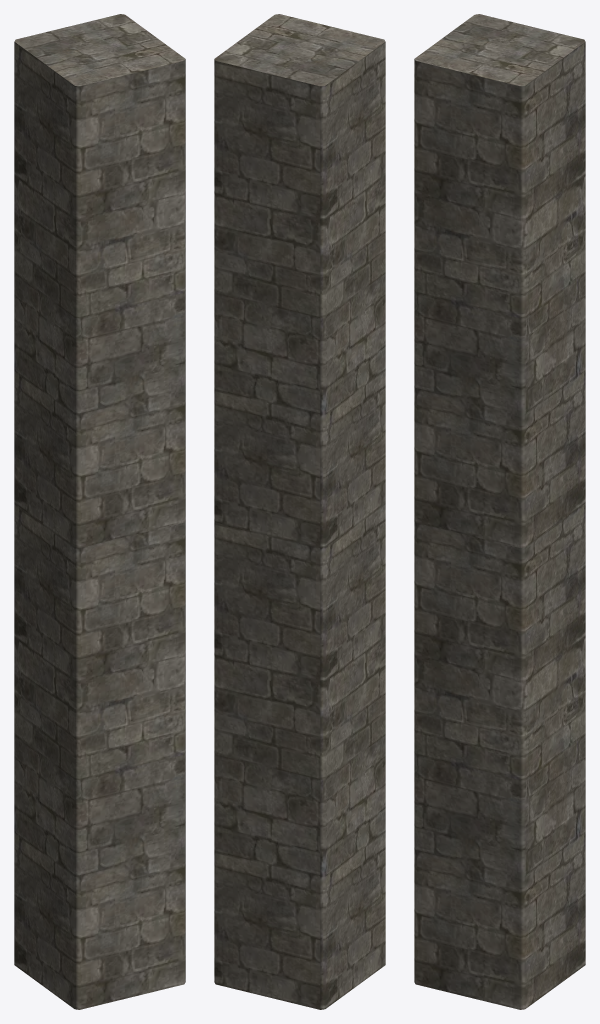
File: SM_pal_b00_grass_Lodenfel_Brick_Column_06_34bc68.glb
3 renders of one model, left to right at view 1: azimuth 30°, elevation 25°; view 2: azimuth 150°, elevation 25°; view 3: azimuth 330°, elevation 25°, orthographic.
Bounding box in the file's own units: 1.51 × 12 × 1.51.
1 material, 1 textured.
